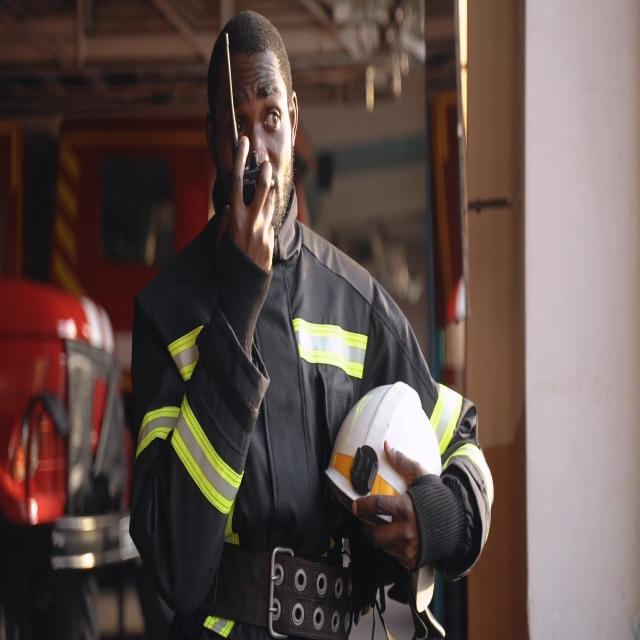Jacket_Wearer: (123, 196, 484, 640)
Person: (124, 24, 497, 640)
